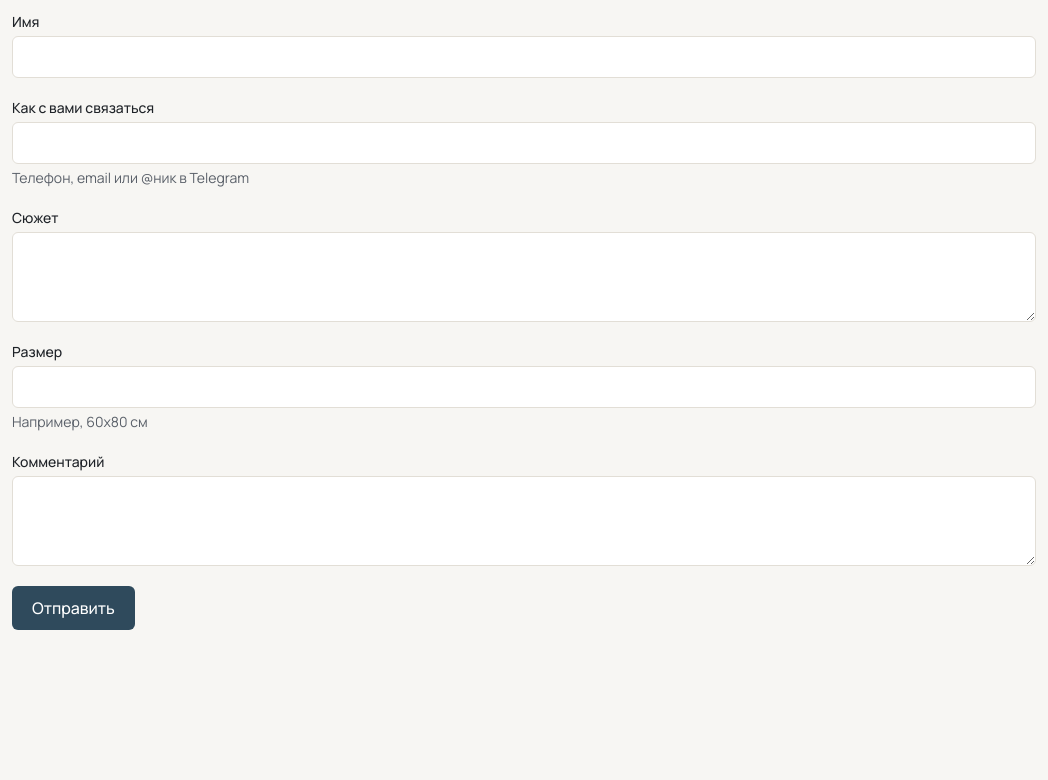
Test: @US6-EC1 ошибка отправки сохраняет введённое › показывает ошибку с мессенджером, значения остаются, цель не шлётся
The image size is (1048, 780).
Type "Анна" into the field labelled "Имя". click: coordinates (524, 57)
box: [12, 36, 1036, 78]
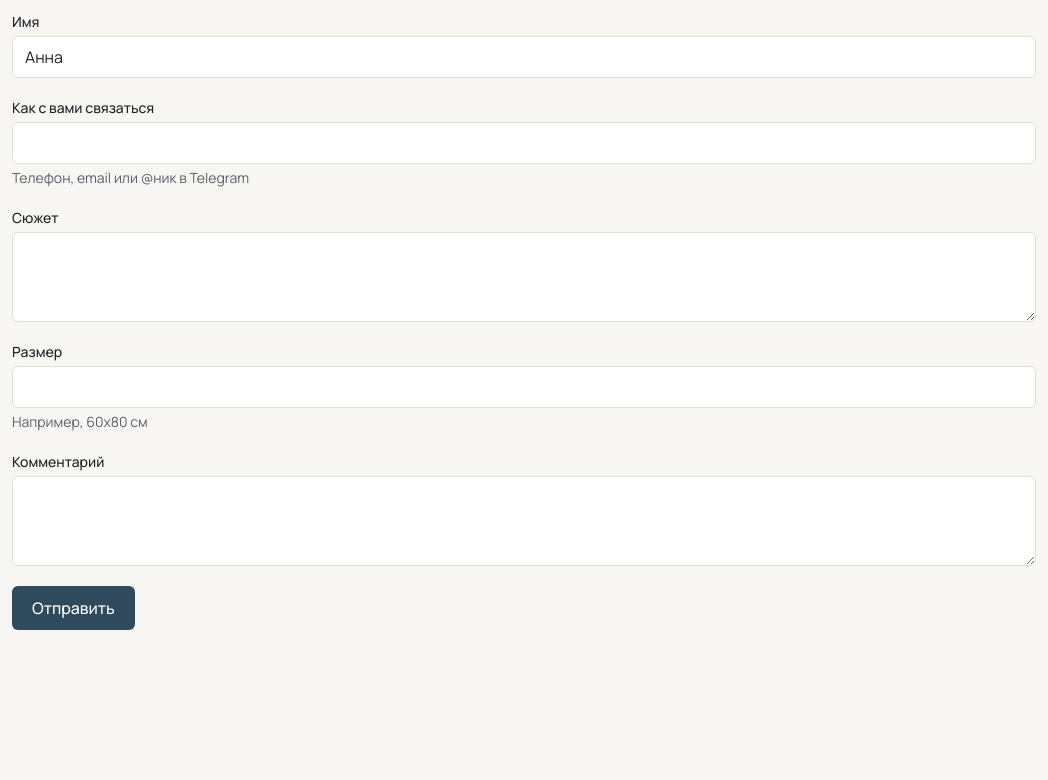
Type "a@b.ru" into the field labelled "Как с вами связаться". click: coordinates (524, 143)
box: [12, 122, 1036, 164]
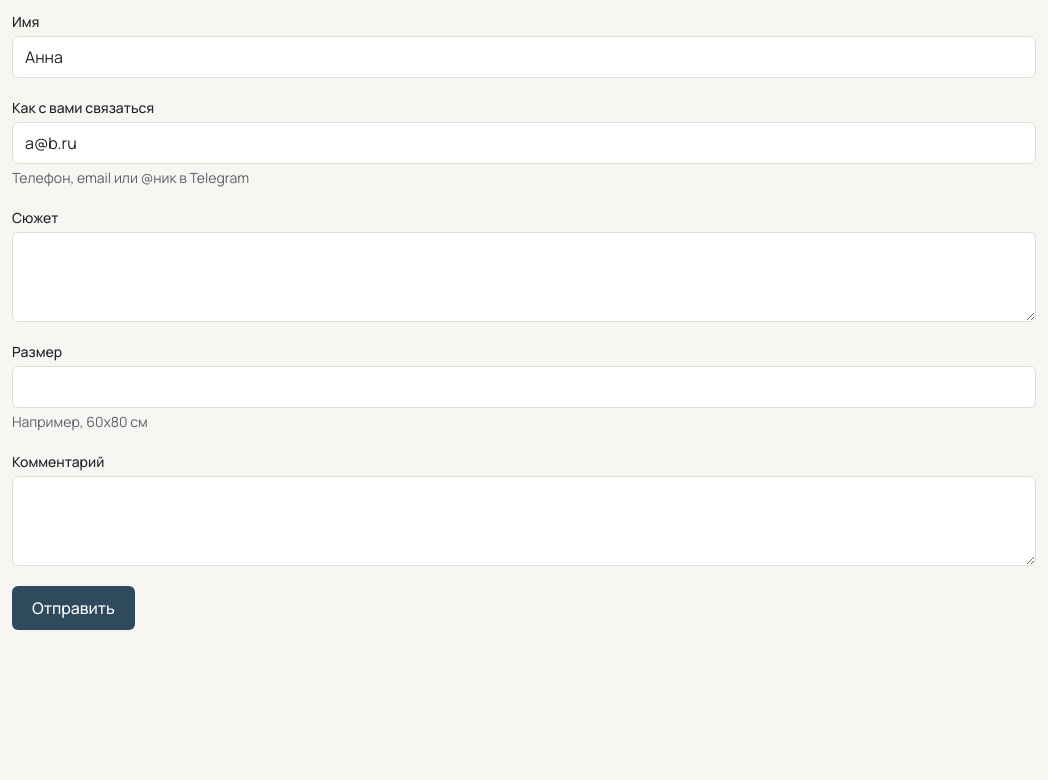
Type "Море на закате" into the text box labelled "Сюжет". click: coordinates (524, 277)
box: [12, 232, 1036, 322]
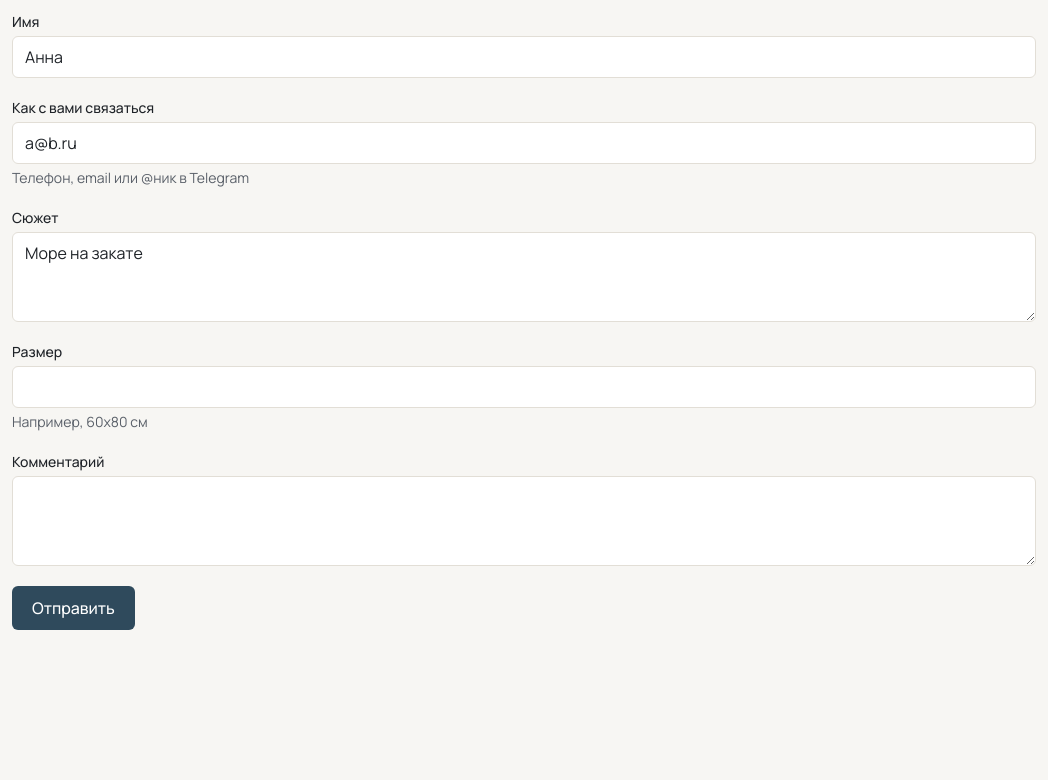
Click the button "Отправить". click: coordinates (73, 608)
box: [12, 586, 135, 630]
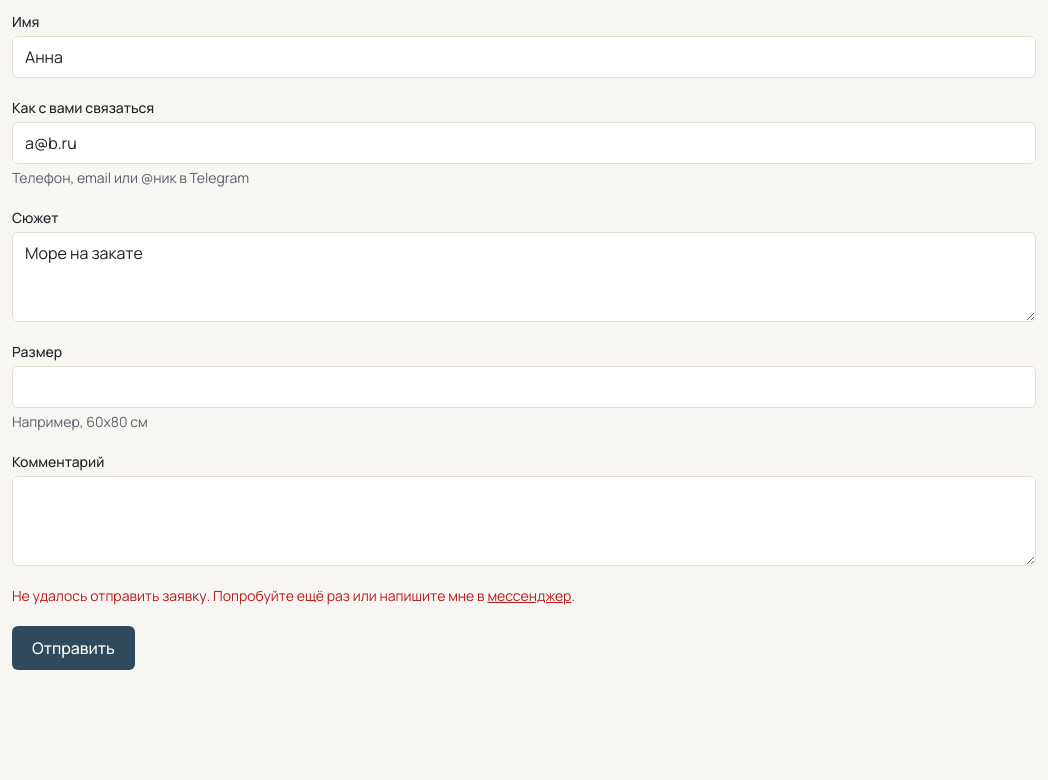
expect the link "мессенджер" is shown: met, box [487, 586, 571, 605]
